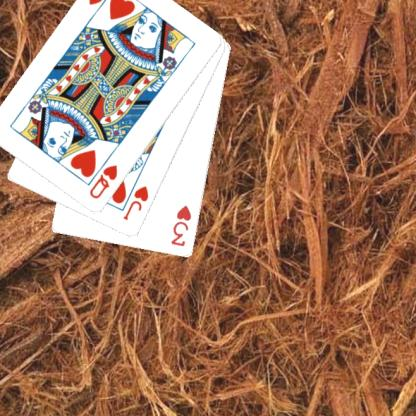3H: (168, 202, 193, 248)
JH: (120, 183, 151, 222)
QH: (86, 163, 120, 201), (85, 0, 120, 17)
